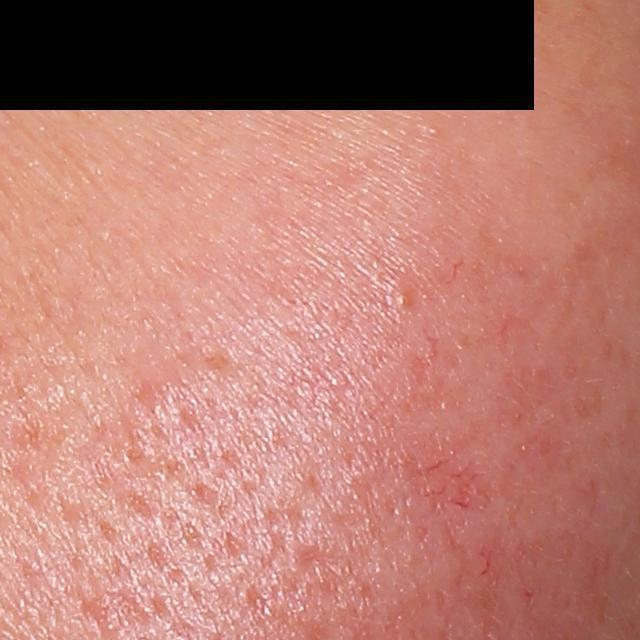comedo: (395, 291, 410, 309)
